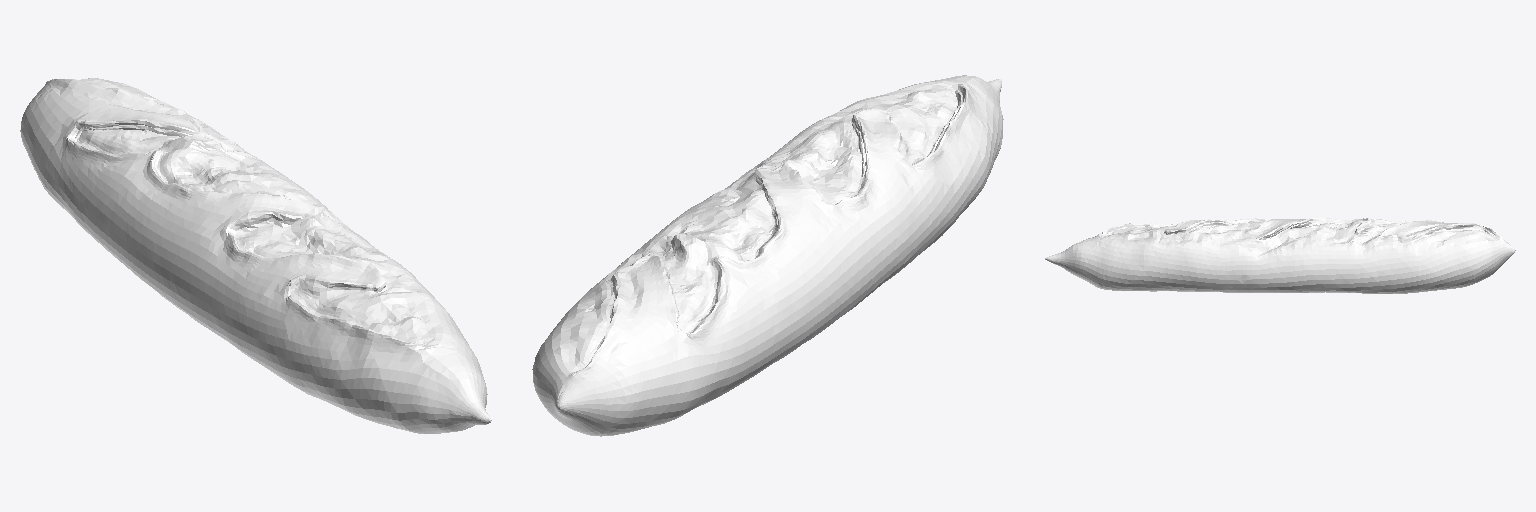
URDF robot description (baguette):
<?xml version="1.0"?>
<robot name="baguette">
  <material name="Bread.003">
    <texture filename="visual/image0.png" />
    <color rgba="1 1 1 1" />
  </material>
  <material name="Line.001">
    <texture filename="visual/image0.png" />
    <color rgba="1 1 1 1" />
  </material>

  <link name="base_link">
    <inertial>
      <origin xyz="0 0 0" rpy="0 0 0" />
      <mass value="0.5" />
      <inertia ixx="0.001" ixy="0" ixz="0" iyy="0.001" iyz="0" izz="0.001" />
    </inertial>

    <visual>
      <origin xyz="0 0 0" rpy="0 0 1.57079632679" />
      <geometry>
        <mesh filename="visual/model_normalized_0.obj" scale="0.225 0.225 0.225" />
      </geometry>
      <material name="Line.001" />
    </visual>
    <visual>
      <origin xyz="0 0 0" rpy="0 0 1.57079632679" />
      <geometry>
        <mesh filename="visual/model_normalized_1.obj" scale="0.225 0.225 0.225" />
      </geometry>
      <material name="Bread.003" />
    </visual>

    <collision>
      <origin xyz="0 0 0" rpy="0 0 1.57079632679" />
      <geometry>
        <mesh filename="collision/model_normalized_collision_22.obj" scale="0.225 0.225 0.225" />
      </geometry>
    </collision>
    <collision>
      <origin xyz="0 0 0" rpy="0 0 1.57079632679" />
      <geometry>
        <mesh filename="collision/model_normalized_collision_23.obj" scale="0.225 0.225 0.225" />
      </geometry>
    </collision>
    <collision>
      <origin xyz="0 0 0" rpy="0 0 1.57079632679" />
      <geometry>
        <mesh filename="collision/model_normalized_collision_21.obj" scale="0.225 0.225 0.225" />
      </geometry>
    </collision>
    <collision>
      <origin xyz="0 0 0" rpy="0 0 1.57079632679" />
      <geometry>
        <mesh filename="collision/model_normalized_collision_20.obj" scale="0.225 0.225 0.225" />
      </geometry>
    </collision>
    <collision>
      <origin xyz="0 0 0" rpy="0 0 1.57079632679" />
      <geometry>
        <mesh filename="collision/model_normalized_collision_24.obj" scale="0.225 0.225 0.225" />
      </geometry>
    </collision>
    <collision>
      <origin xyz="0 0 0" rpy="0 0 1.57079632679" />
      <geometry>
        <mesh filename="collision/model_normalized_collision_30.obj" scale="0.225 0.225 0.225" />
      </geometry>
    </collision>
    <collision>
      <origin xyz="0 0 0" rpy="0 0 1.57079632679" />
      <geometry>
        <mesh filename="collision/model_normalized_collision_18.obj" scale="0.225 0.225 0.225" />
      </geometry>
    </collision>
    <collision>
      <origin xyz="0 0 0" rpy="0 0 1.57079632679" />
      <geometry>
        <mesh filename="collision/model_normalized_collision_19.obj" scale="0.225 0.225 0.225" />
      </geometry>
    </collision>
    <collision>
      <origin xyz="0 0 0" rpy="0 0 1.57079632679" />
      <geometry>
        <mesh filename="collision/model_normalized_collision_31.obj" scale="0.225 0.225 0.225" />
      </geometry>
    </collision>
    <collision>
      <origin xyz="0 0 0" rpy="0 0 1.57079632679" />
      <geometry>
        <mesh filename="collision/model_normalized_collision_25.obj" scale="0.225 0.225 0.225" />
      </geometry>
    </collision>
    <collision>
      <origin xyz="0 0 0" rpy="0 0 1.57079632679" />
      <geometry>
        <mesh filename="collision/model_normalized_collision_27.obj" scale="0.225 0.225 0.225" />
      </geometry>
    </collision>
    <collision>
      <origin xyz="0 0 0" rpy="0 0 1.57079632679" />
      <geometry>
        <mesh filename="collision/model_normalized_collision_26.obj" scale="0.225 0.225 0.225" />
      </geometry>
    </collision>
    <collision>
      <origin xyz="0 0 0" rpy="0 0 1.57079632679" />
      <geometry>
        <mesh filename="collision/model_normalized_collision_9.obj" scale="0.225 0.225 0.225" />
      </geometry>
    </collision>
    <collision>
      <origin xyz="0 0 0" rpy="0 0 1.57079632679" />
      <geometry>
        <mesh filename="collision/model_normalized_collision_8.obj" scale="0.225 0.225 0.225" />
      </geometry>
    </collision>
    <collision>
      <origin xyz="0 0 0" rpy="0 0 1.57079632679" />
      <geometry>
        <mesh filename="collision/model_normalized_collision_6.obj" scale="0.225 0.225 0.225" />
      </geometry>
    </collision>
    <collision>
      <origin xyz="0 0 0" rpy="0 0 1.57079632679" />
      <geometry>
        <mesh filename="collision/model_normalized_collision_7.obj" scale="0.225 0.225 0.225" />
      </geometry>
    </collision>
    <collision>
      <origin xyz="0 0 0" rpy="0 0 1.57079632679" />
      <geometry>
        <mesh filename="collision/model_normalized_collision_5.obj" scale="0.225 0.225 0.225" />
      </geometry>
    </collision>
    <collision>
      <origin xyz="0 0 0" rpy="0 0 1.57079632679" />
      <geometry>
        <mesh filename="collision/model_normalized_collision_4.obj" scale="0.225 0.225 0.225" />
      </geometry>
    </collision>
    <collision>
      <origin xyz="0 0 0" rpy="0 0 1.57079632679" />
      <geometry>
        <mesh filename="collision/model_normalized_collision_0.obj" scale="0.225 0.225 0.225" />
      </geometry>
    </collision>
    <collision>
      <origin xyz="0 0 0" rpy="0 0 1.57079632679" />
      <geometry>
        <mesh filename="collision/model_normalized_collision_1.obj" scale="0.225 0.225 0.225" />
      </geometry>
    </collision>
    <collision>
      <origin xyz="0 0 0" rpy="0 0 1.57079632679" />
      <geometry>
        <mesh filename="collision/model_normalized_collision_3.obj" scale="0.225 0.225 0.225" />
      </geometry>
    </collision>
    <collision>
      <origin xyz="0 0 0" rpy="0 0 1.57079632679" />
      <geometry>
        <mesh filename="collision/model_normalized_collision_2.obj" scale="0.225 0.225 0.225" />
      </geometry>
    </collision>
    <collision>
      <origin xyz="0 0 0" rpy="0 0 1.57079632679" />
      <geometry>
        <mesh filename="collision/model_normalized_collision_17.obj" scale="0.225 0.225 0.225" />
      </geometry>
    </collision>
    <collision>
      <origin xyz="0 0 0" rpy="0 0 1.57079632679" />
      <geometry>
        <mesh filename="collision/model_normalized_collision_16.obj" scale="0.225 0.225 0.225" />
      </geometry>
    </collision>
    <collision>
      <origin xyz="0 0 0" rpy="0 0 1.57079632679" />
      <geometry>
        <mesh filename="collision/model_normalized_collision_28.obj" scale="0.225 0.225 0.225" />
      </geometry>
    </collision>
    <collision>
      <origin xyz="0 0 0" rpy="0 0 1.57079632679" />
      <geometry>
        <mesh filename="collision/model_normalized_collision_14.obj" scale="0.225 0.225 0.225" />
      </geometry>
    </collision>
    <collision>
      <origin xyz="0 0 0" rpy="0 0 1.57079632679" />
      <geometry>
        <mesh filename="collision/model_normalized_collision_15.obj" scale="0.225 0.225 0.225" />
      </geometry>
    </collision>
    <collision>
      <origin xyz="0 0 0" rpy="0 0 1.57079632679" />
      <geometry>
        <mesh filename="collision/model_normalized_collision_29.obj" scale="0.225 0.225 0.225" />
      </geometry>
    </collision>
    <collision>
      <origin xyz="0 0 0" rpy="0 0 1.57079632679" />
      <geometry>
        <mesh filename="collision/model_normalized_collision_11.obj" scale="0.225 0.225 0.225" />
      </geometry>
    </collision>
    <collision>
      <origin xyz="0 0 0" rpy="0 0 1.57079632679" />
      <geometry>
        <mesh filename="collision/model_normalized_collision_10.obj" scale="0.225 0.225 0.225" />
      </geometry>
    </collision>
    <collision>
      <origin xyz="0 0 0" rpy="0 0 1.57079632679" />
      <geometry>
        <mesh filename="collision/model_normalized_collision_12.obj" scale="0.225 0.225 0.225" />
      </geometry>
    </collision>
    <collision>
      <origin xyz="0 0 0" rpy="0 0 1.57079632679" />
      <geometry>
        <mesh filename="collision/model_normalized_collision_13.obj" scale="0.225 0.225 0.225" />
      </geometry>
    </collision>
  </link>
</robot>

--- What the picture shows (computed from the rendered views, not written in the file) ---
Views: 3 orthographic renders of the robot side by side, from view 1: azimuth 30°, elevation 25°; view 2: azimuth 150°, elevation 25°; view 3: azimuth 270°, elevation 25°.
Robot: baguette — 1 links, 0 joints (none); root link base_link; default pose: all joints at 0.
Links seen in each view (by area): view 1: base_link; view 2: base_link; view 3: base_link.
Link boxes in pixels (x1,y1,x2,y2): base_link: (20,78,491,433); base_link: (532,75,1003,436); base_link: (1045,218,1515,293).
Size in the robot's own frame: 0.0491 by 0.225 by 0.0344 metres.
Meshes: 2 distinct files referenced, 2 mesh visuals loaded (2 OBJ).